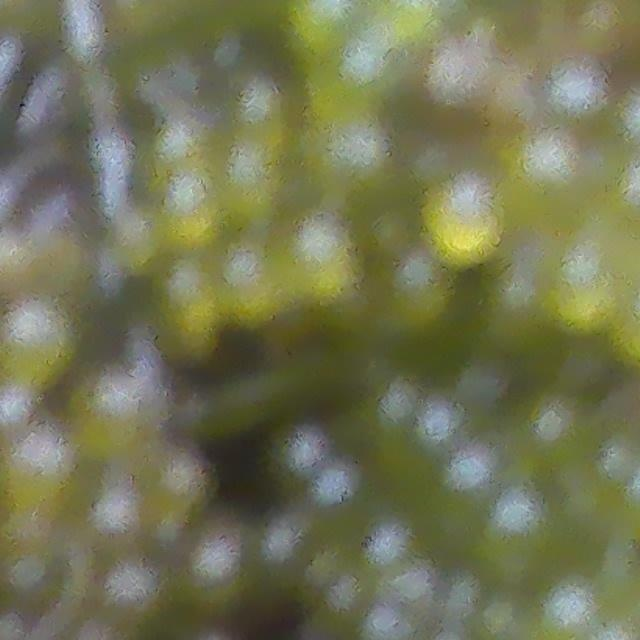SeaGrape: (426, 169, 507, 265), (285, 0, 360, 58)
